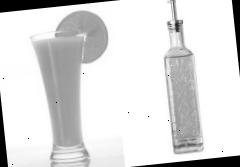glass: (29, 28, 100, 167), (156, 0, 205, 155)
